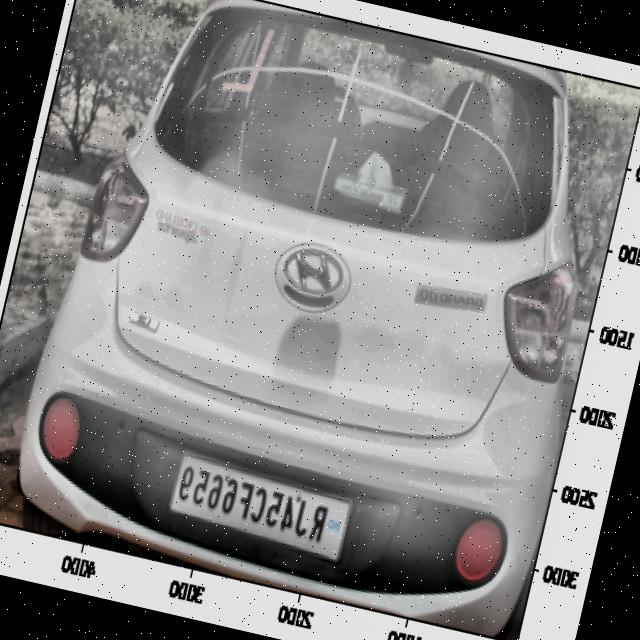license_plate: (166, 458, 338, 553)
